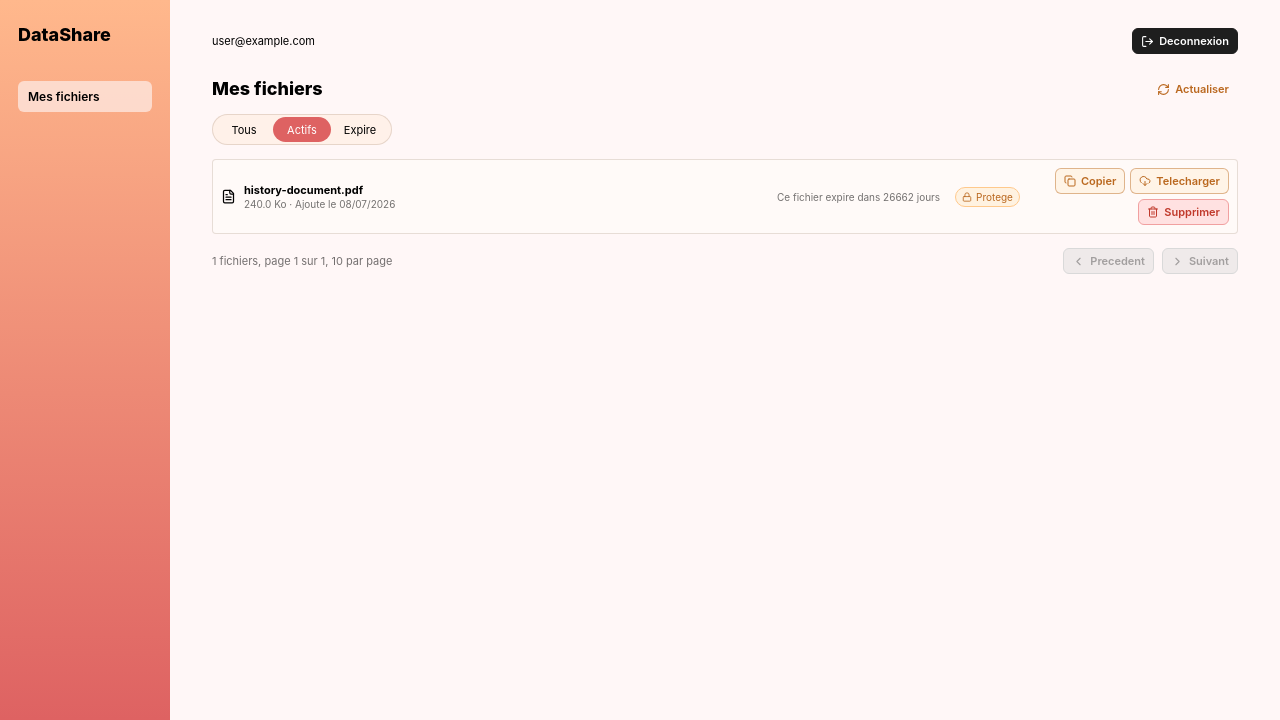
Test: authenticated file management › shows history and deletes a file from history
Expected: the link "Mes fichiers" is shown, x1=18 y1=81 x2=152 y2=112
Expected: the heading "history-document.pdf" is shown, x1=244 y1=182 x2=363 y2=196
Click the button "Supprimer" at (1184, 212), box x1=1138 y1=199 x2=1229 y2=225
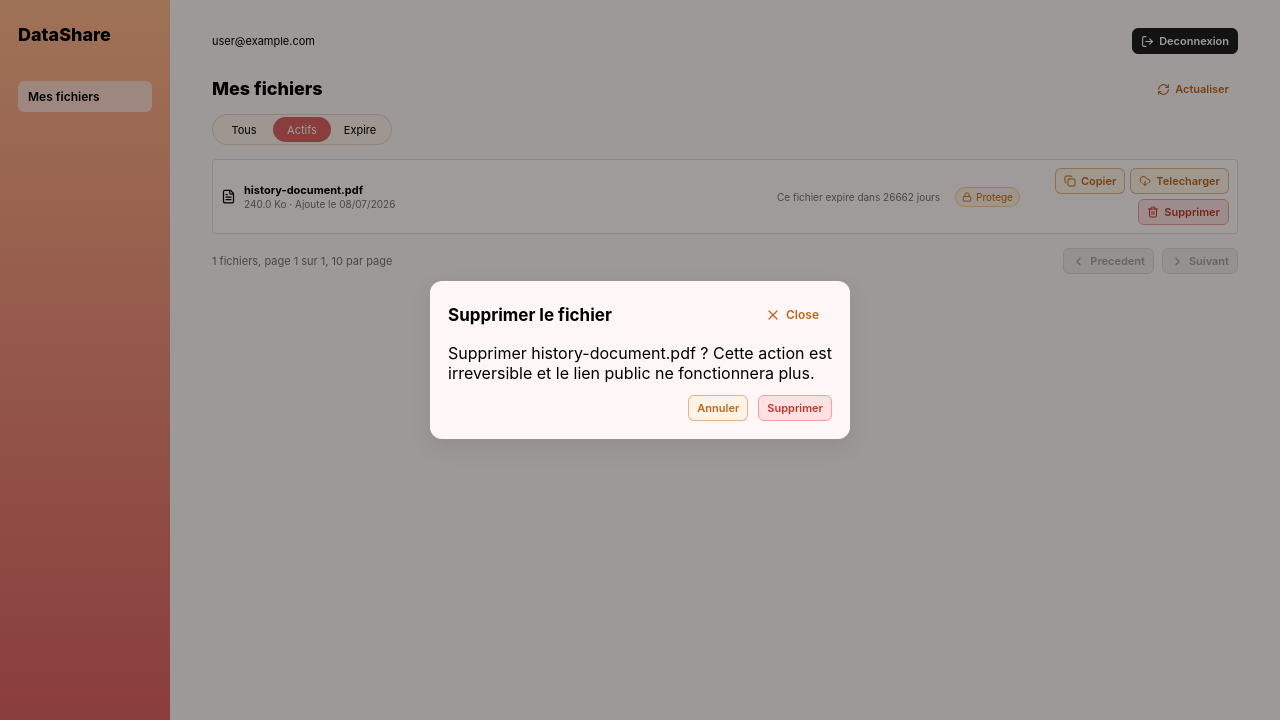
Expected: the dialog shows "Supprimer le fichier"
Click the button "Supprimer" at (795, 408), box x1=758 y1=395 x2=832 y2=421
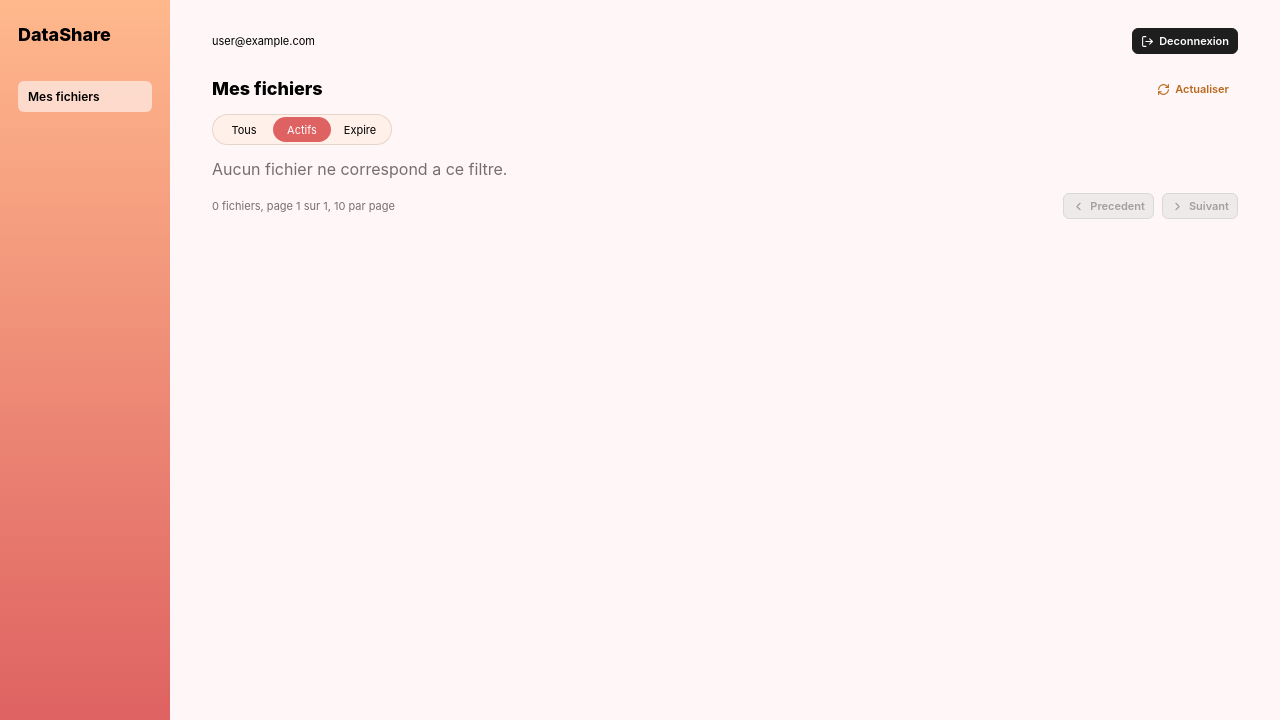
Expected: the heading "history-document.pdf" is gone
